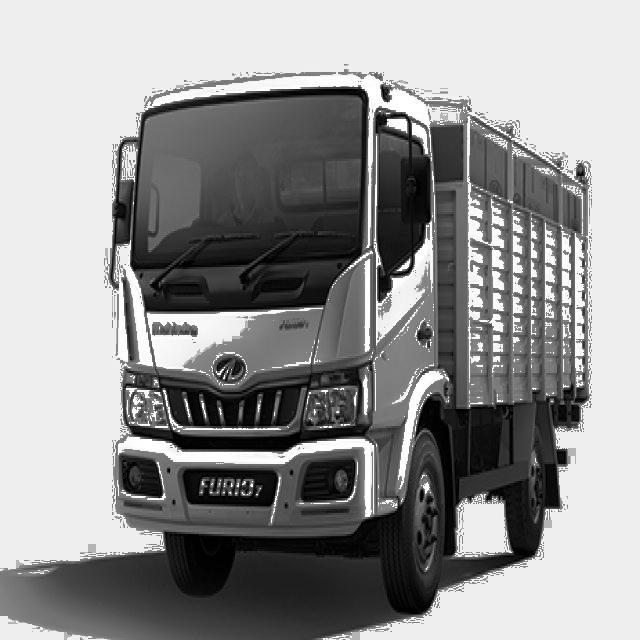HCV: (95, 62, 595, 627)
